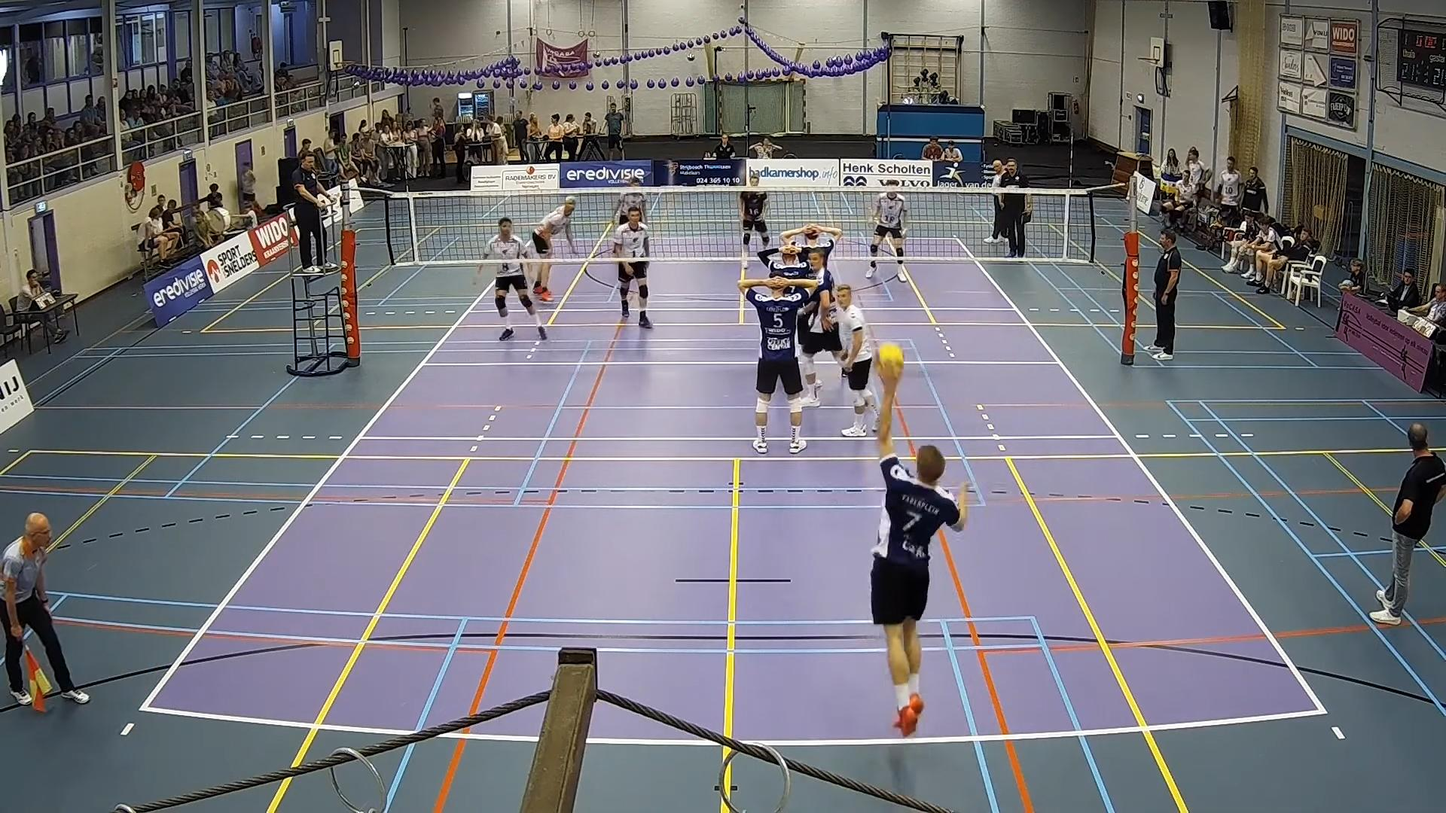battuta: (865, 359, 976, 744)
